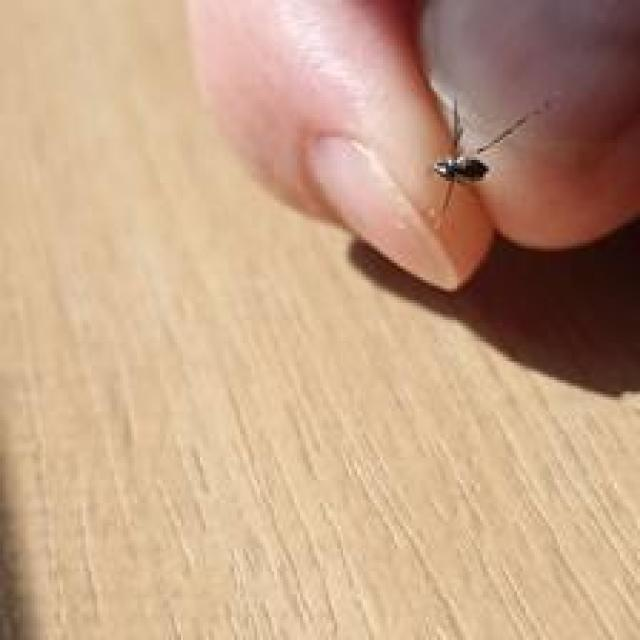Aedes albopictus: (430, 90, 553, 216)
